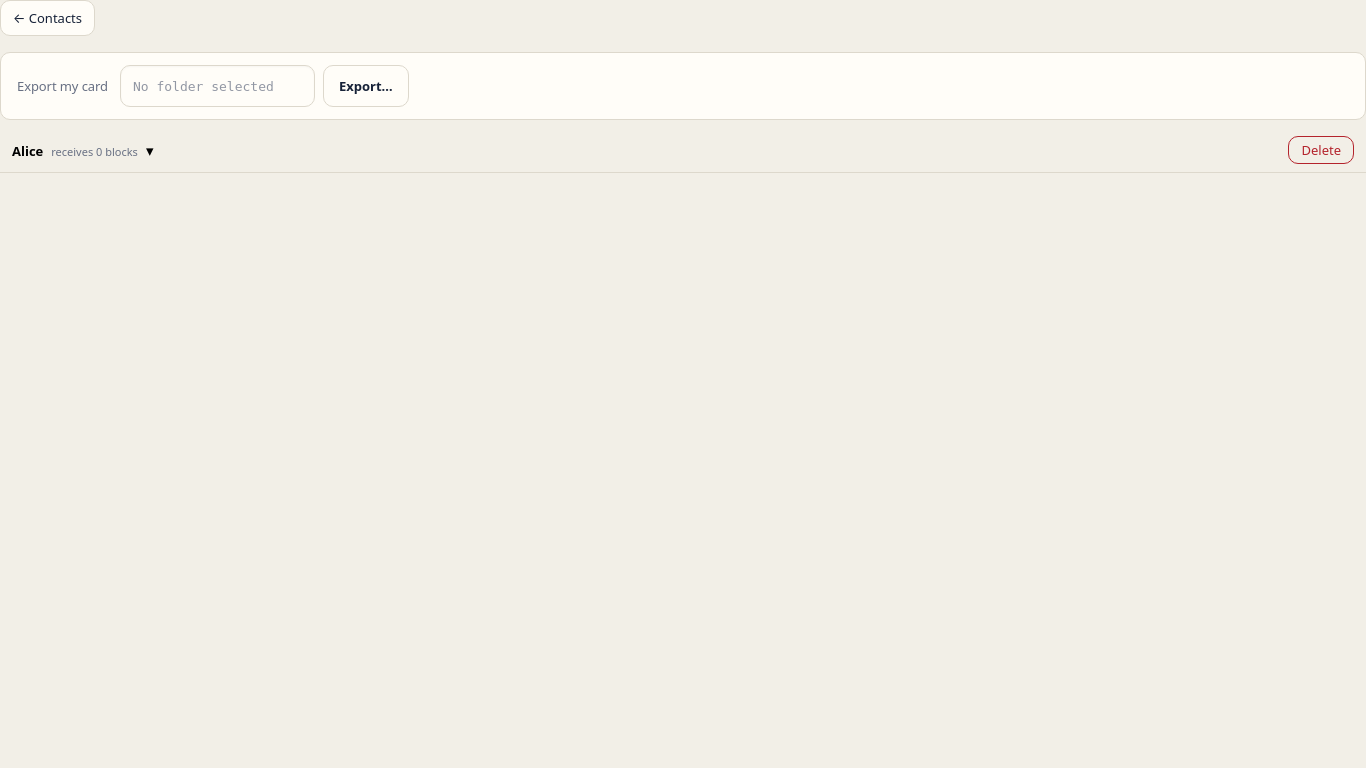
ContactsPane › self-heals when a delete fails with contact_not_found (reload + benign notice, no error)
Check: the text "Alice" is shown, box [12,142,43,160]
Click the button "Delete". click: (1321, 150)
box: [1288,136,1354,164]
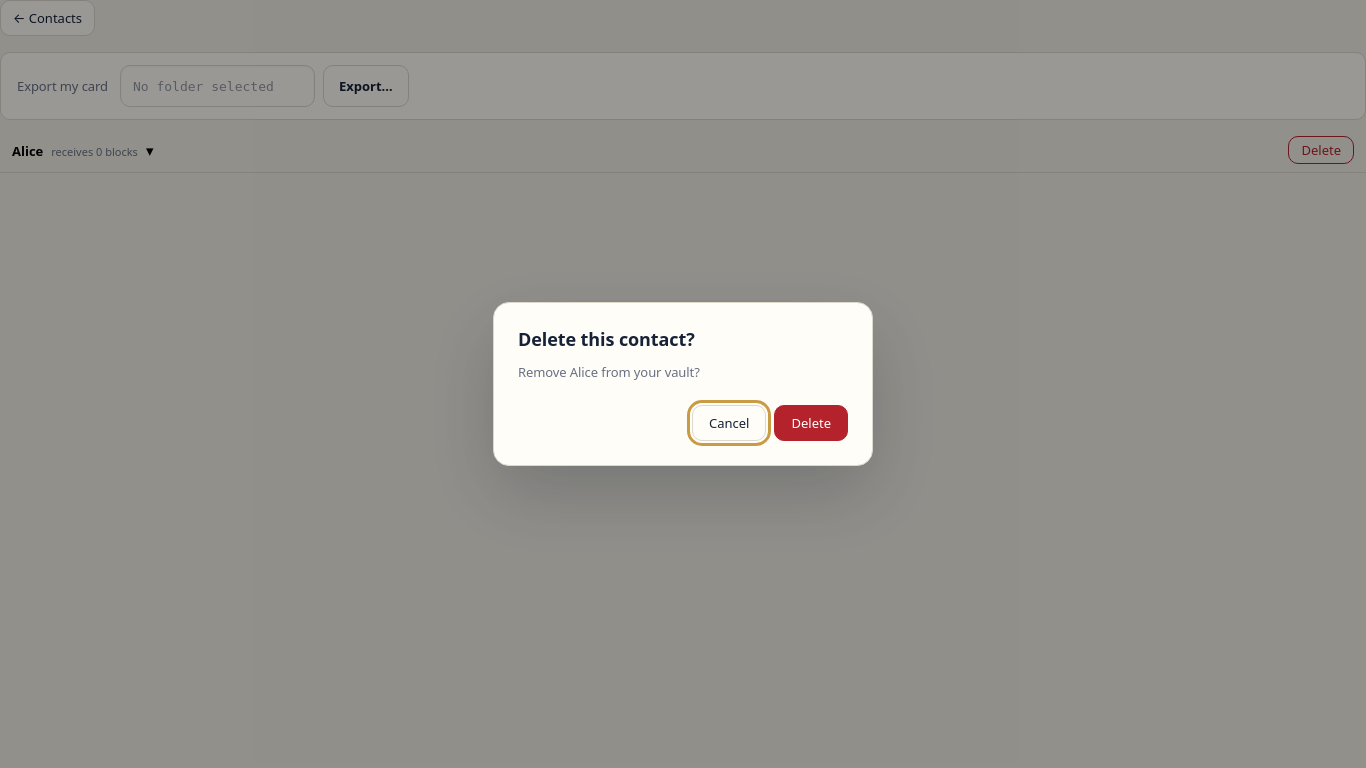
Click the button "Delete". click: (811, 423)
box: [774,405,848,441]
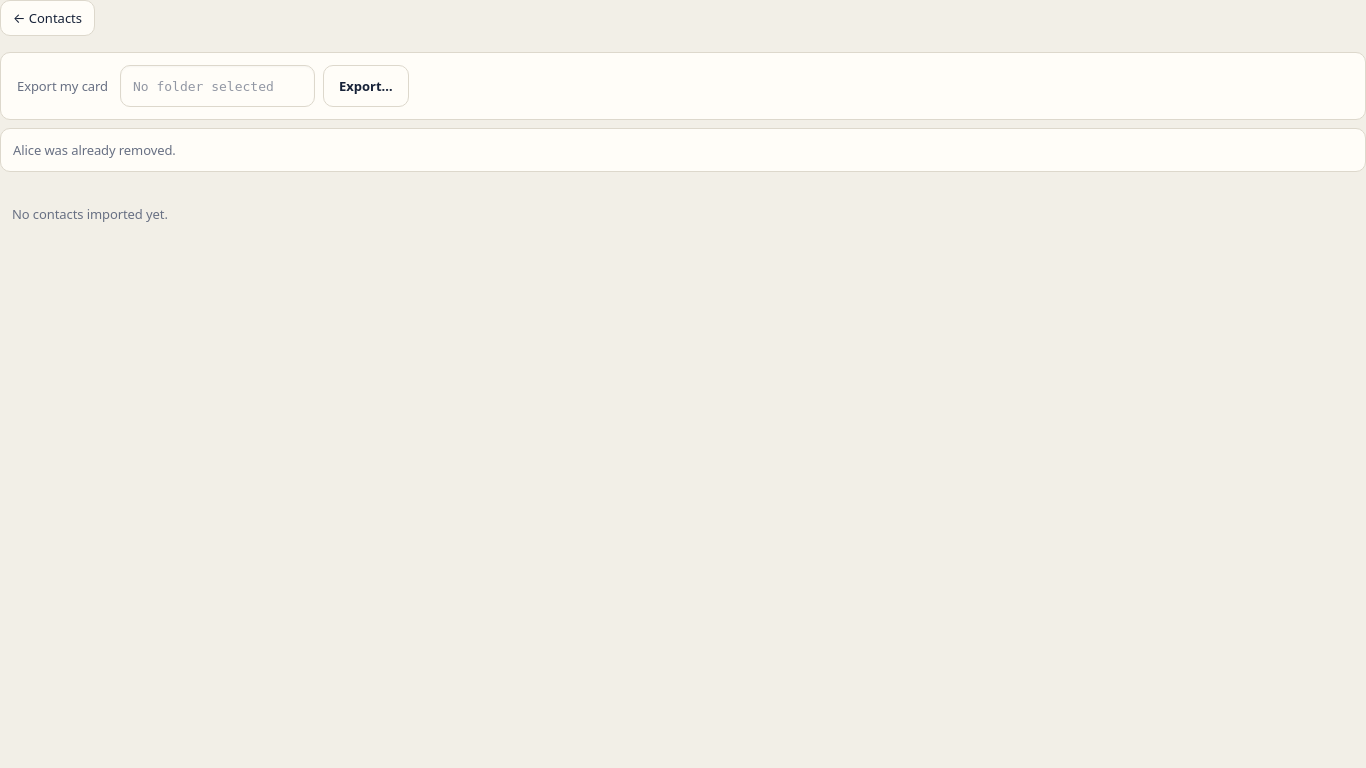
Check: the message shows "already removed", box [13,141,176,159]
